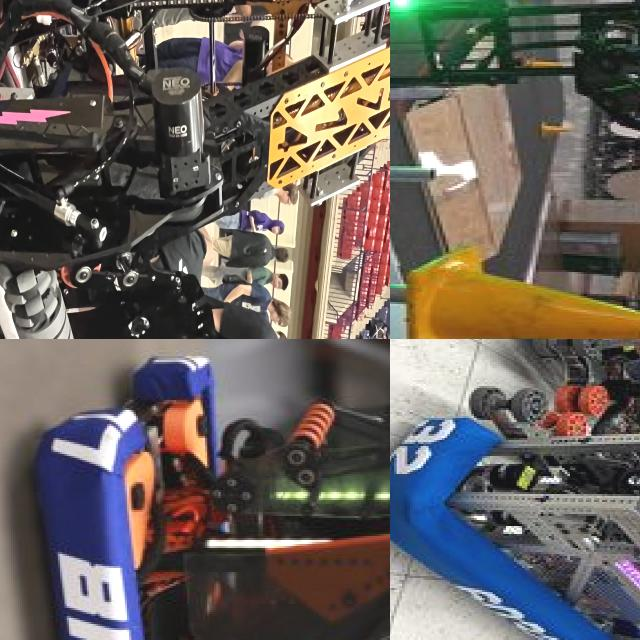FRC-Robots: (0, 0, 390, 339), (32, 339, 390, 640), (390, 339, 640, 640), (390, 0, 640, 183)
